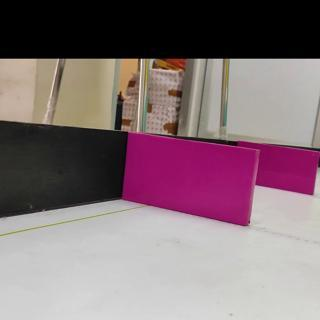xparking: (127, 149, 252, 220), (262, 154, 318, 193)
